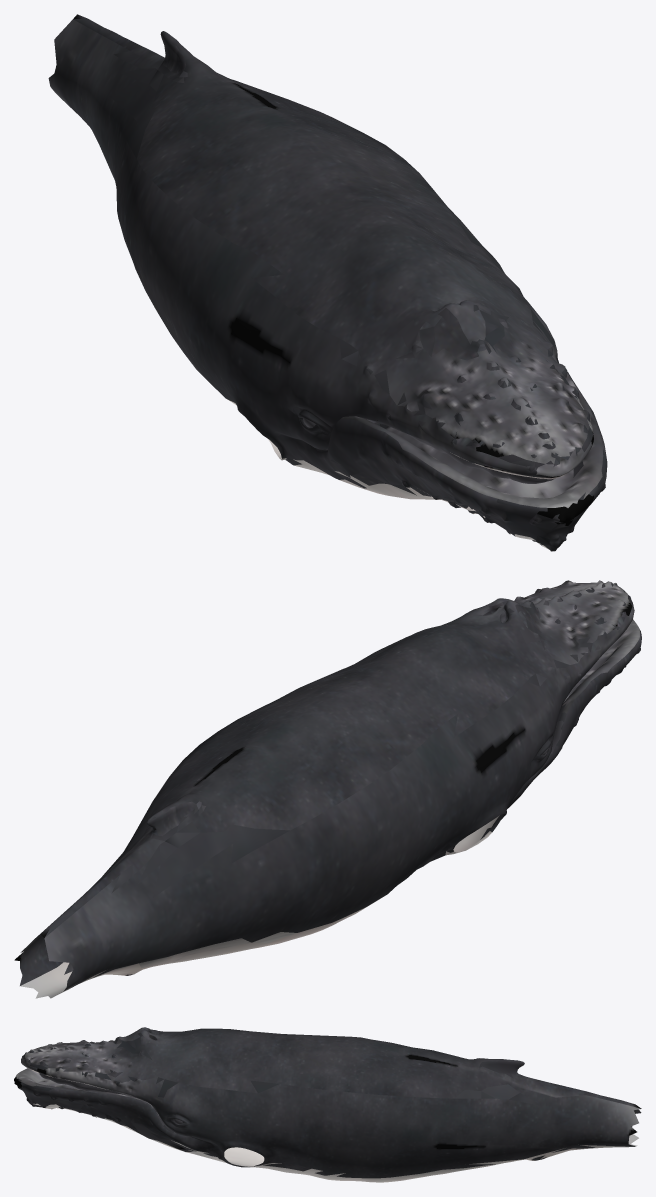
File: ballena.obj
The picture shows the model from 3 angles, top to bottom: view 1: azimuth 30°, elevation 25°; view 2: azimuth 150°, elevation 25°; view 3: azimuth 270°, elevation 25°; orthographic projection. The views are drawn at different scales.
Visible parts, largest first — view 1: Ballena_humpback_whale_001; view 2: Ballena_humpback_whale_001; view 3: Ballena_humpback_whale_001.
Boxes of the visible parts, x1,y1,x2,y2 form: Ballena_humpback_whale_001: (48,14,607,551); Ballena_humpback_whale_001: (14,580,641,998); Ballena_humpback_whale_001: (14,1027,641,1182).
Size of the model in its own units: 134 by 121 by 508.
